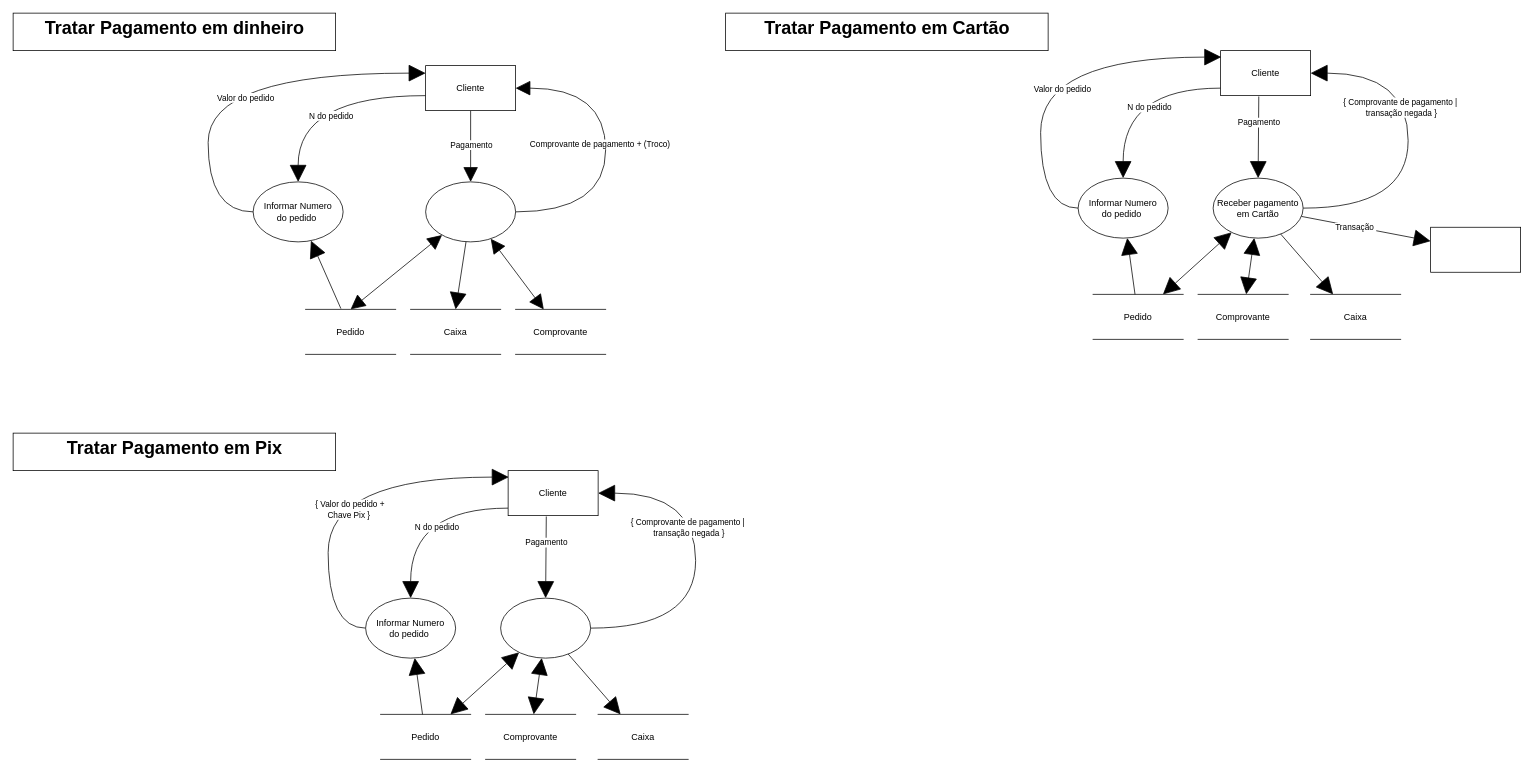
The diagram is 1534 pixels wide and 773 high, and some of its shapes have lost their labels. Each missing label, with the centre of its shape:
"Banco" belongs at pixel 1475 249.
"Receber pagamento em dinheiro" belongs at pixel 470 211.
"Receber pagamento em Pix" belongs at pixel 545 627.
